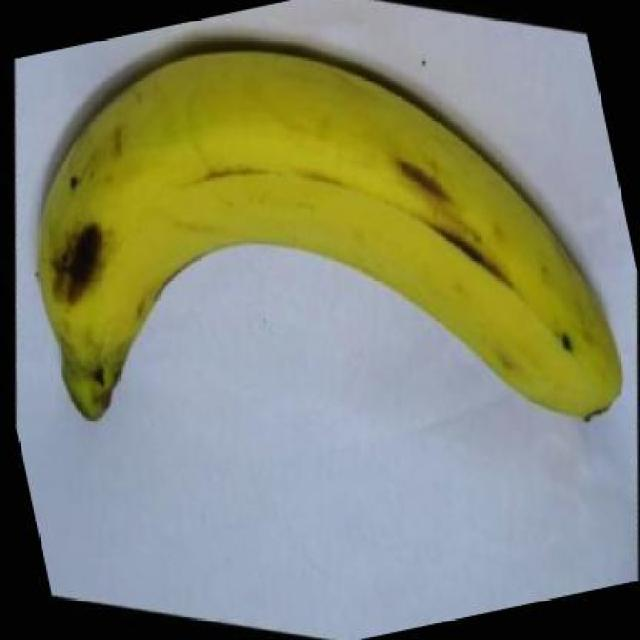ripe: (0, 33, 633, 517)
